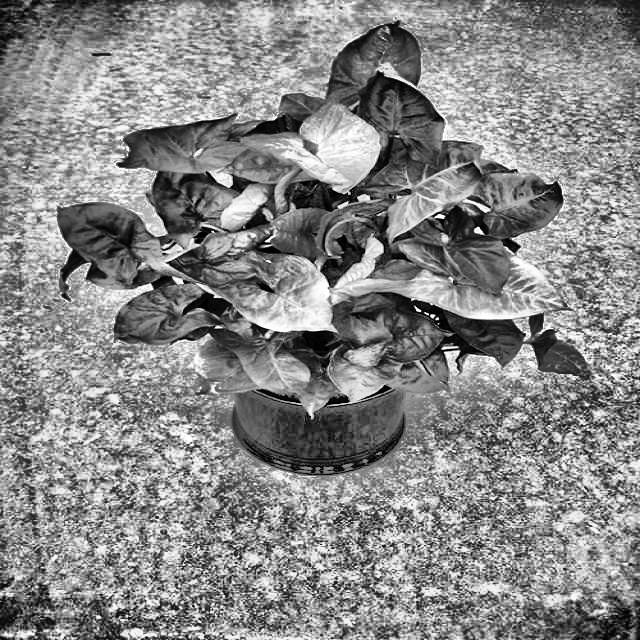plants: (53, 26, 598, 474), (282, 110, 392, 197), (186, 331, 272, 414), (268, 204, 342, 267)
